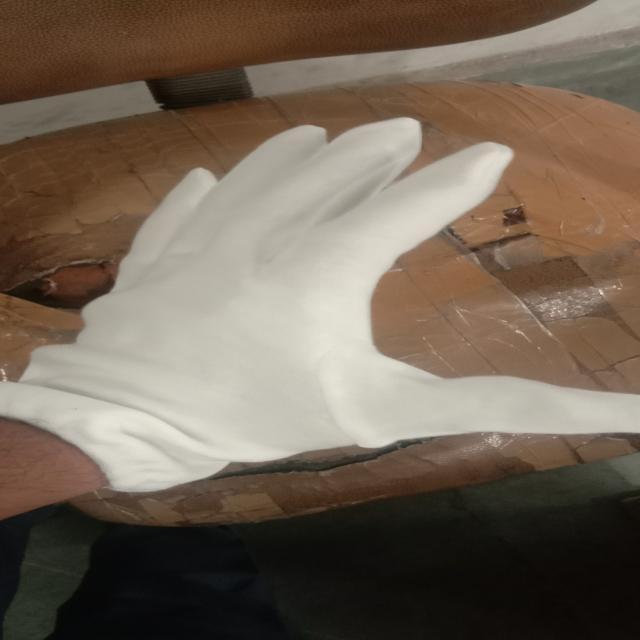glove_hand: (0, 114, 639, 498)
